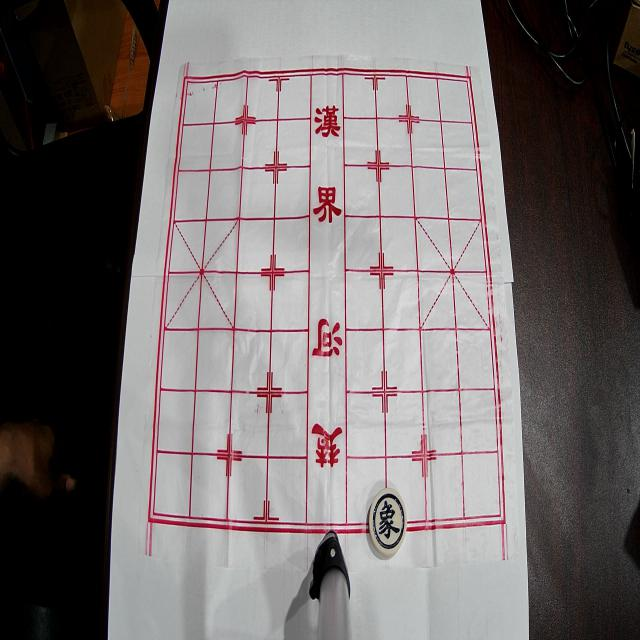black-elephant: (369, 488, 407, 556)
